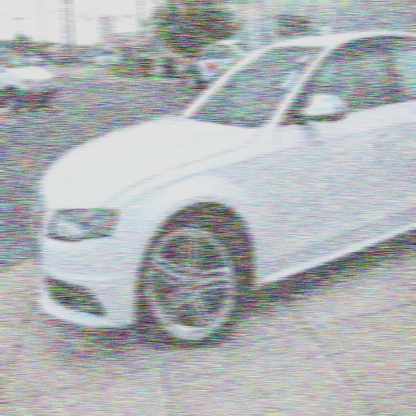Vehicle: (30, 30, 416, 350)
